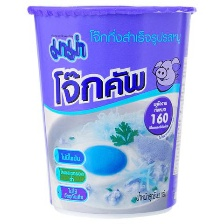paper_cup: (22, 1, 200, 220)
